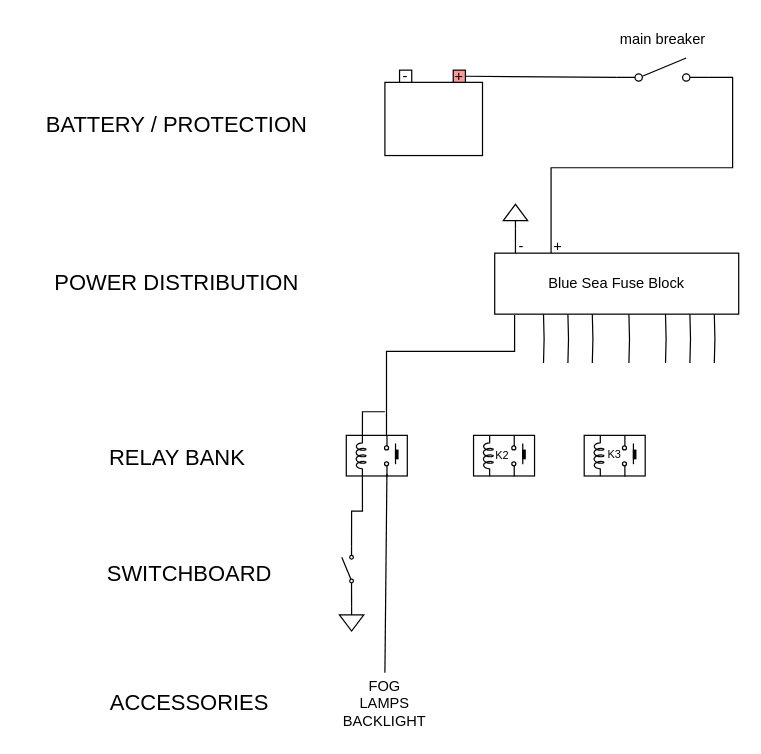
This 761x754 diagram has some shape labels left out. The centre of each missing label's shape, as x and y in pixels:
12v battery: point 433,118
K1: point 376,455
